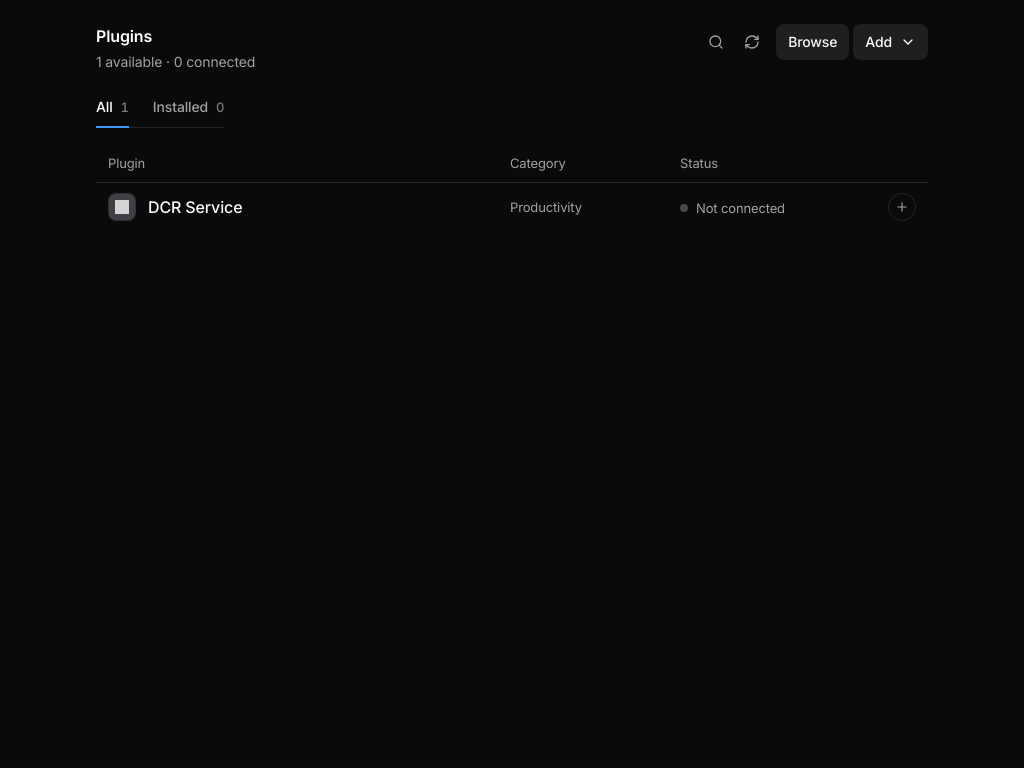
Scenario: PluginsView publishes every supported connection path immediately › publishes a DCR browser-OAuth connection before revalidation finishes
Click the button named "Connect plugin". click: click(902, 207)
box: x1=888 y1=193 x2=916 y2=221
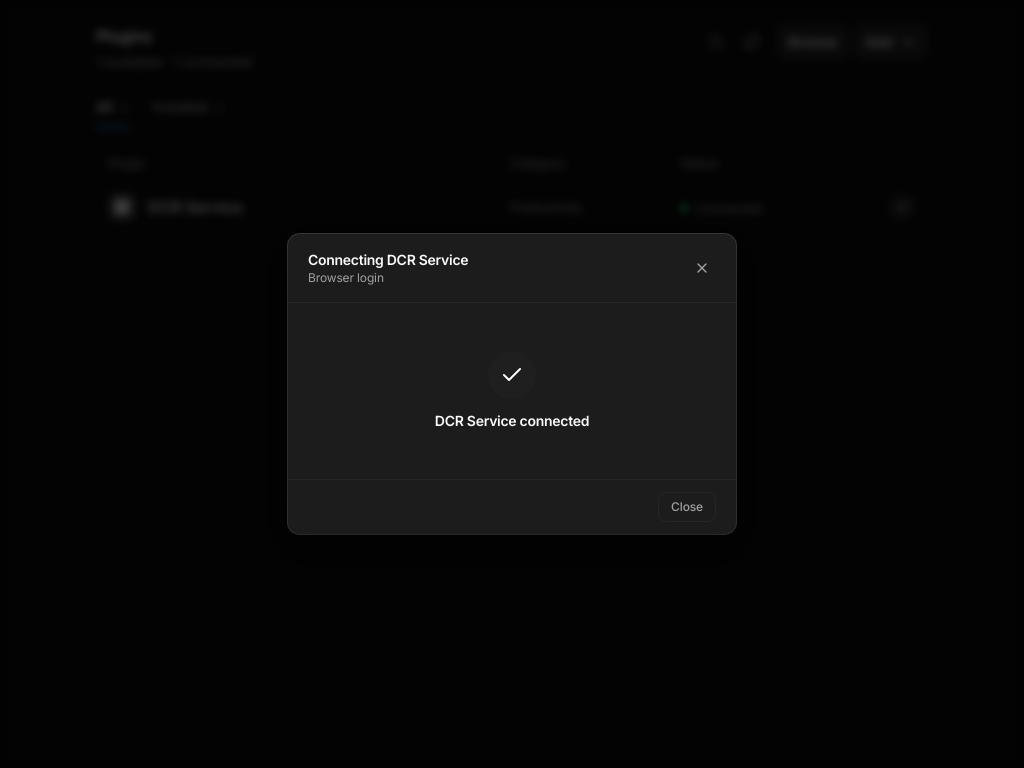
Result: the text "DCR Service connected" is shown at x1=435 y1=411 x2=589 y2=431
